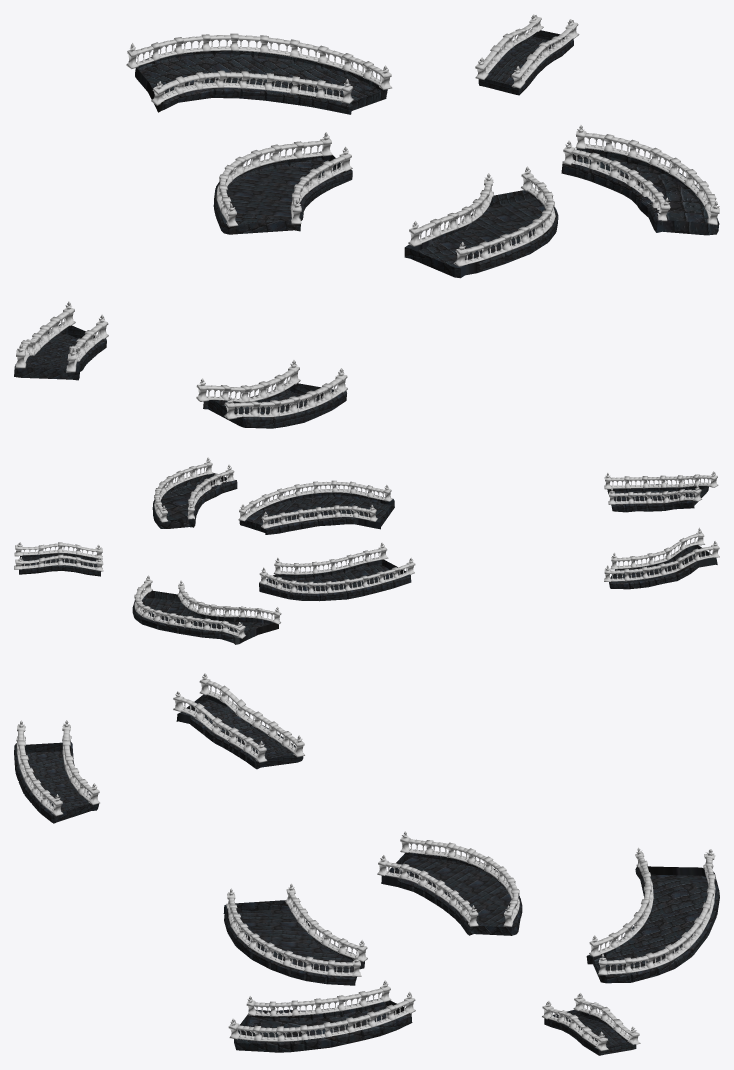
Rendered from CH_Terrain_Bridges.fbx.
3 renders of one model, top to bottom at view 1: azimuth 30°, elevation 25°; view 2: azimuth 150°, elevation 25°; view 3: azimuth 270°, elevation 25°, orthographic. The views are drawn at different scales.
Visible parts, largest first — view 1: CH_Terrain_Bridges; view 2: CH_Terrain_Bridges; view 3: CH_Terrain_Bridges.
Boxes of the visible parts, x1,y1,x2,y2 form: CH_Terrain_Bridges: (14, 14, 719, 428); CH_Terrain_Bridges: (14, 457, 719, 644); CH_Terrain_Bridges: (14, 673, 719, 1055).
Bounding box in the file's own units: 10295 × 965 × 9007.
